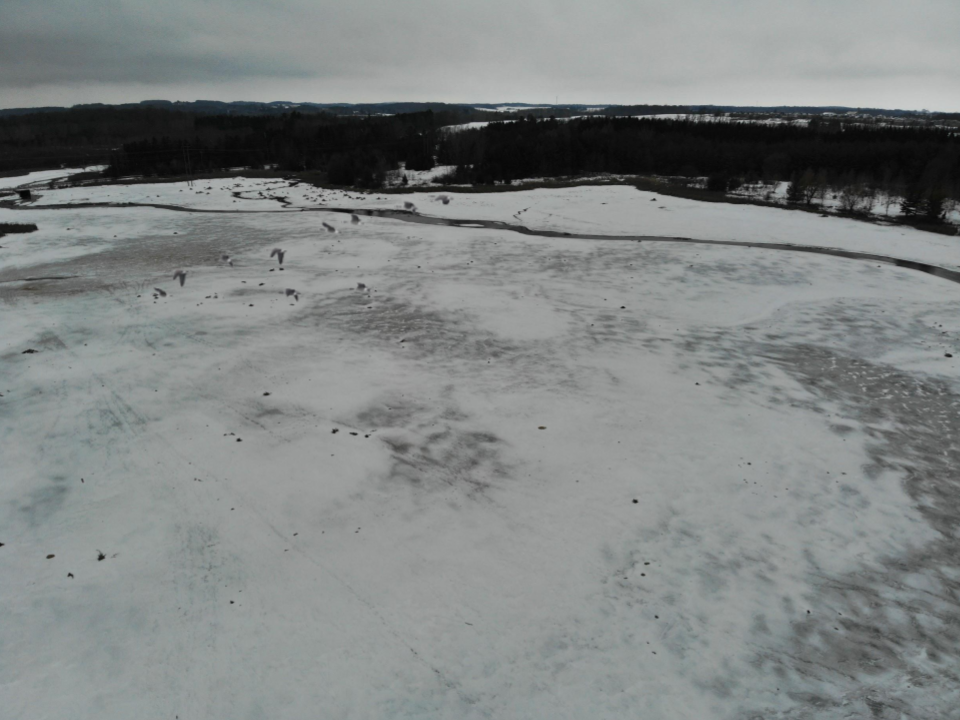goose: (268, 245, 293, 267), (170, 268, 193, 289), (433, 193, 458, 206), (281, 286, 300, 303)
